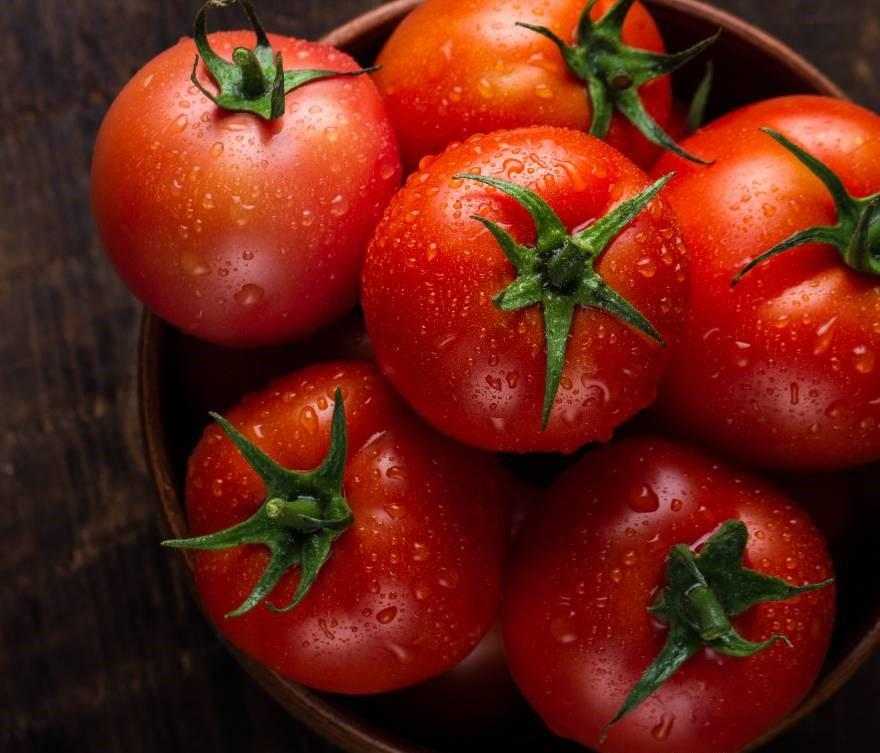healthy-tomato: (185, 362, 541, 702), (503, 436, 839, 753), (92, 25, 409, 355), (367, 133, 691, 436), (629, 96, 880, 480), (367, 1, 687, 170)
